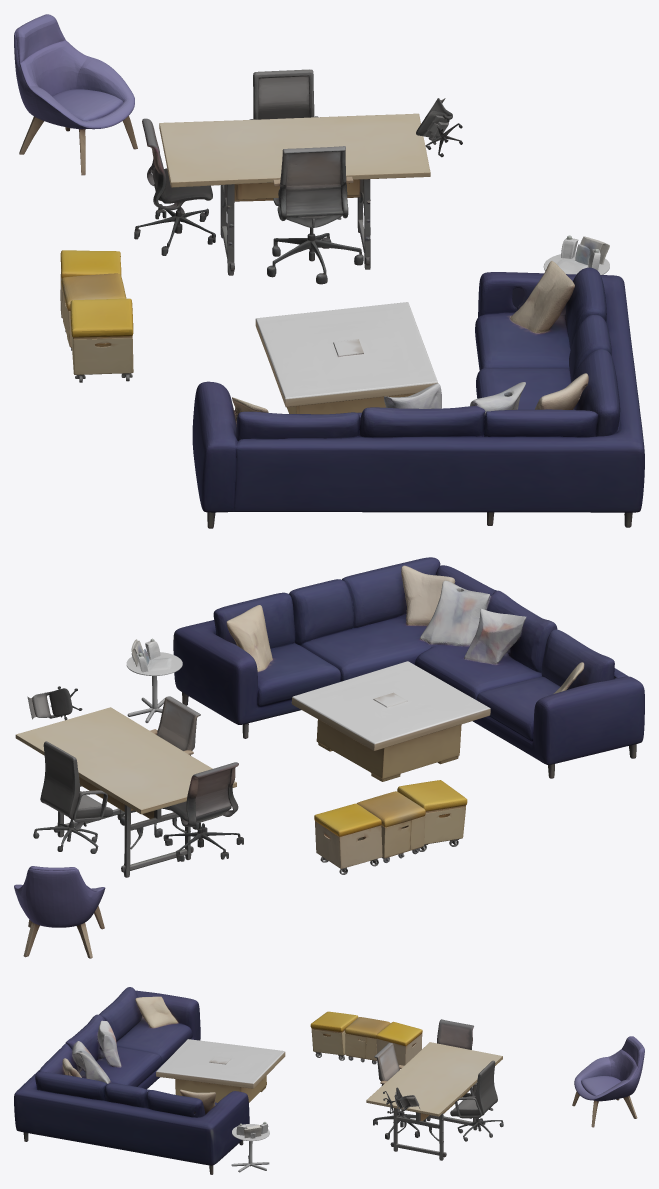
File: ours.glb
3 renders of one model, top to bottom at view 1: azimuth 30°, elevation 25°; view 2: azimuth 150°, elevation 25°; view 3: azimuth 270°, elevation 25°, orthographic. The views are drawn at different scales.
Parts seen in each view (by area): view 1: world; view 2: world; view 3: world.
Boxes of the visible parts, x1=… form: world: x1=14, y1=14, x2=644, y2=528; world: x1=14, y1=557, x2=644, y2=958; world: x1=14, y1=987, x2=644, y2=1174.
Bounding box in the file's own units: 4.11 × 1.2 × 7.6.
